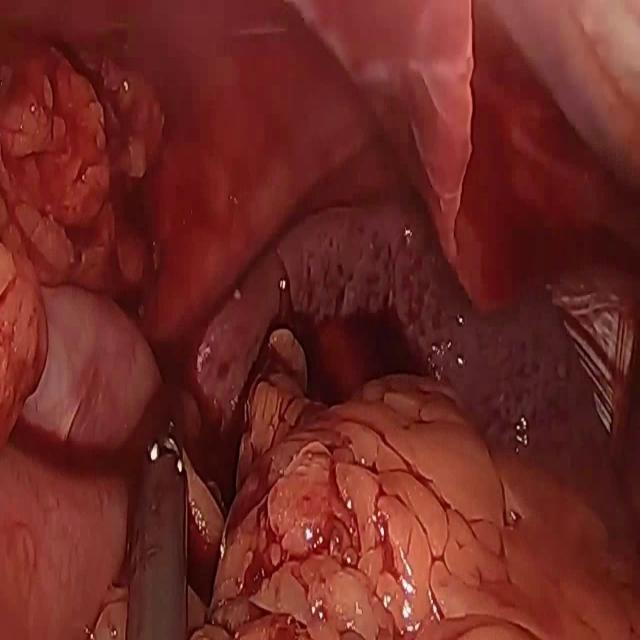surgical-tool: (122, 409, 191, 639)
